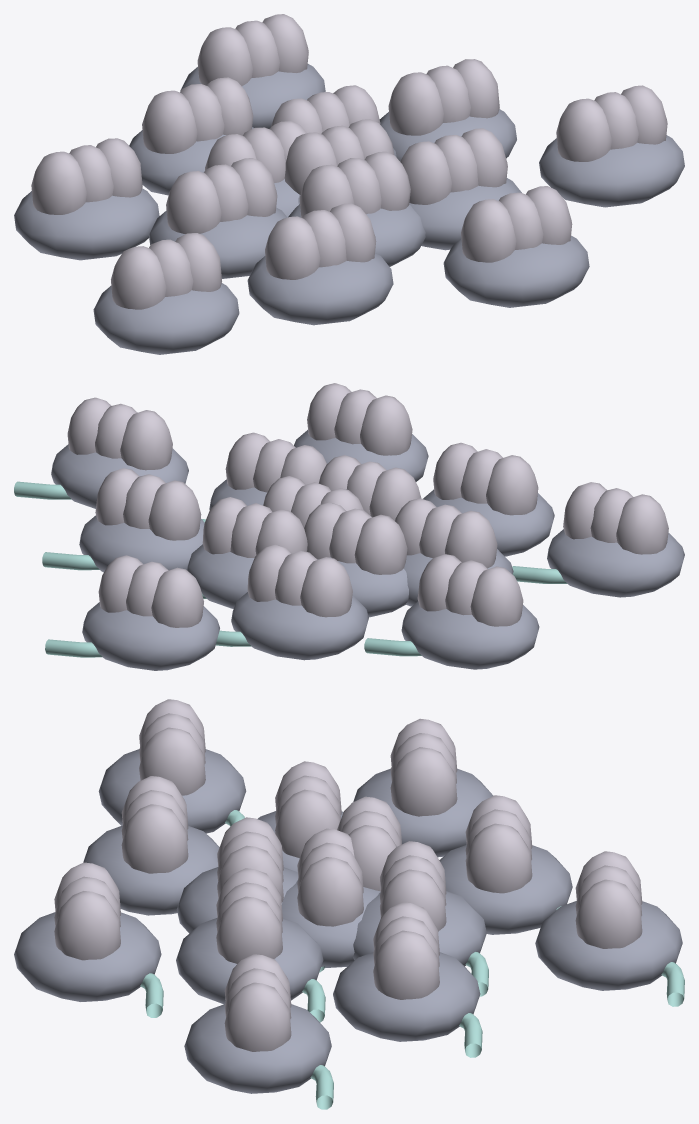
The model's file is bio_acid_mat_21_far.glb.
3 renders of one model, top to bottom at view 1: azimuth 30°, elevation 25°; view 2: azimuth 150°, elevation 25°; view 3: azimuth 270°, elevation 25°, orthographic. The views are drawn at different scales.
Visible parts, largest first — view 1: Microbial cushion.010, Microbial cushion.012, Microbial cushion.007, Microbial cushion.013, Microbial cushion.009, Reaction vesicle.024, Reaction vesicle.027, Reaction vesicle.021, Reaction vesicle.036, Reaction vesicle.030, Reaction vesicle.039, Reaction vesicle.012 (+14 smaller); view 2: Microbial cushion.011, Microbial cushion.006, Microbial cushion.012, Microbial cushion.009, Reaction vesicle.027, Reaction vesicle.024, Reaction vesicle.033, Reaction vesicle.030, Reaction vesicle.039, Reaction vesicle.018, Reaction vesicle.036, Reaction vesicle.021 (+20 smaller); view 3: Microbial cushion.013, Microbial cushion.011, Microbial cushion.010, Microbial cushion.008, Microbial cushion.006, Reaction vesicle.024, Reaction vesicle.027, Reaction vesicle.033, Reaction vesicle.018, Reaction vesicle.021, Reaction vesicle.030, Reaction vesicle.039 (+20 smaller).
Boxes of the visible parts, <box> form: Microbial cushion.010: <box>443,235,589,307</box>; Microbial cushion.012: <box>93,283,239,354</box>; Microbial cushion.007: <box>247,253,393,325</box>; Microbial cushion.013: <box>539,135,684,207</box>; Microbial cushion.009: <box>14,188,159,260</box>; Reaction vesicle.024: <box>388,59,499,135</box>; Reaction vesicle.027: <box>31,138,142,214</box>; Reaction vesicle.021: <box>265,203,376,279</box>; Reaction vesicle.036: <box>111,233,221,309</box>; Reaction vesicle.030: <box>461,186,572,262</box>; Reaction vesicle.039: <box>556,85,667,161</box>; Reaction vesicle.012: <box>166,158,277,233</box>; Microbial cushion.011: <box>82,602,219,670</box>; Microbial cushion.006: <box>231,592,368,660</box>; Microbial cushion.012: <box>547,529,684,597</box>; Microbial cushion.009: <box>401,601,539,669</box>; Reaction vesicle.027: <box>417,554,523,626</box>; Reaction vesicle.024: <box>95,468,201,540</box>; Reaction vesicle.033: <box>98,555,203,627</box>; Reaction vesicle.030: <box>307,383,412,455</box>; Reaction vesicle.039: <box>67,397,172,470</box>; Reaction vesicle.018: <box>247,544,352,617</box>; Reaction vesicle.036: <box>563,482,668,554</box>; Reaction vesicle.021: <box>433,442,538,515</box>; Microbial cushion.013: <box>184,1004,331,1093</box>; Microbial cushion.011: <box>535,901,682,990</box>; Microbial cushion.010: <box>14,912,161,1001</box>; Microbial cushion.008: <box>333,952,480,1041</box>; Microbial cushion.006: <box>439,845,572,934</box>; Reaction vesicle.024: <box>373,902,439,999</box>; Reaction vesicle.027: <box>390,718,457,816</box>; Reaction vesicle.033: <box>575,851,642,948</box>; Reaction vesicle.018: <box>465,795,532,893</box>; Reaction vesicle.021: <box>121,776,188,873</box>; Reaction vesicle.030: <box>54,862,120,960</box>; Reaction vesicle.039: <box>224,954,291,1051</box>.
Bounding box in the file's own units: 2.33 × 0.3598 × 2.
